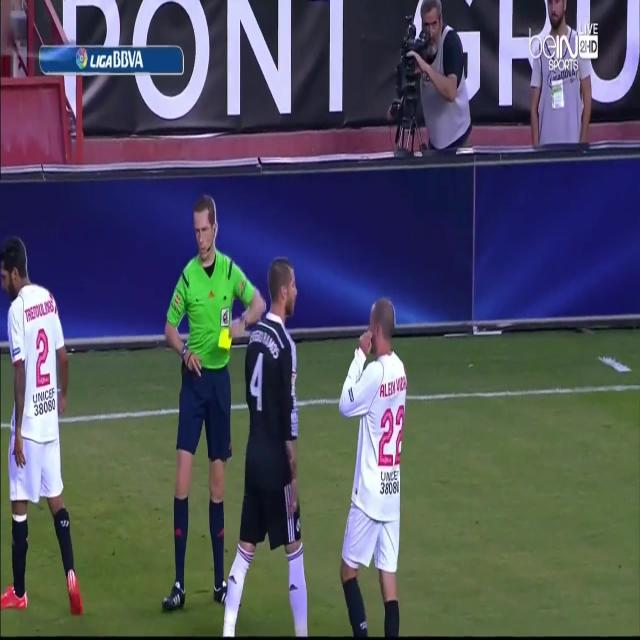Player: (221, 254, 311, 638), (0, 234, 82, 618), (339, 295, 409, 639)
Referee: (160, 198, 270, 611)
